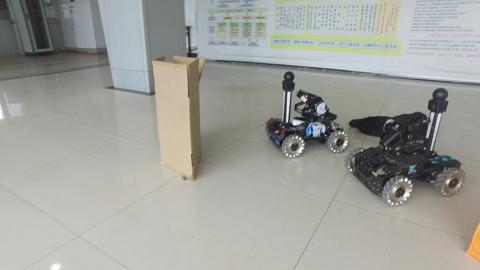box: (153, 53, 204, 182)
chariot: (348, 85, 470, 209), (269, 69, 345, 156)
